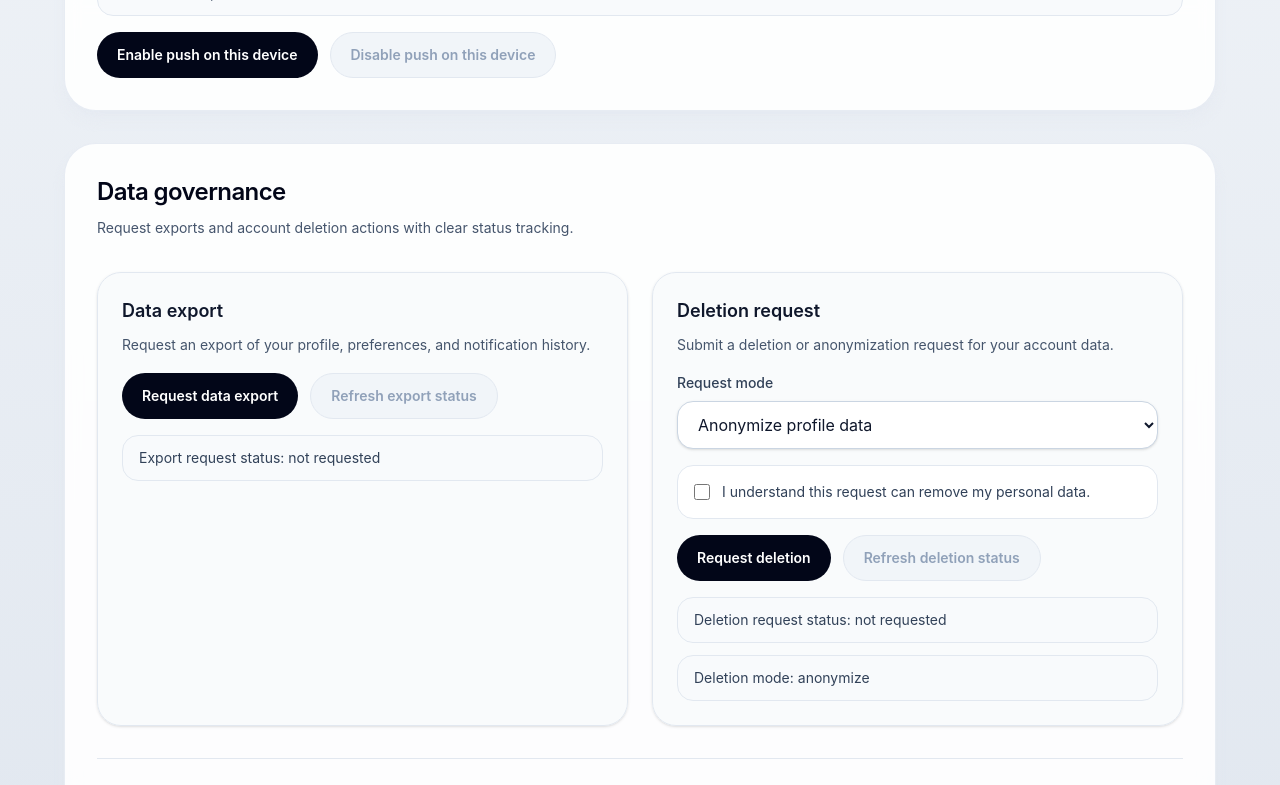
Scenario: SettingsPreferencesForm › submits and refreshes export request status
(page scrolled)
Click the button "Request data export" at (210, 396), box x1=122 y1=373 x2=298 y2=419
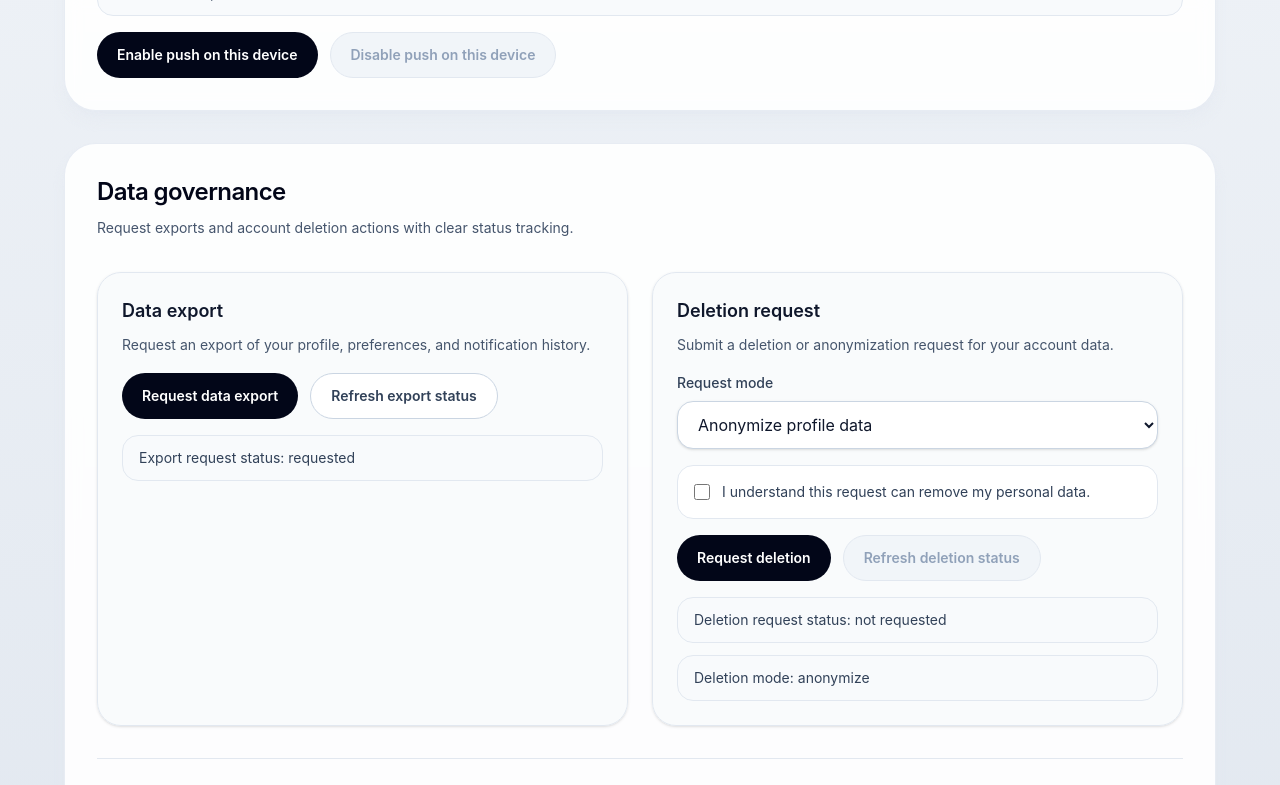
expect the text "Export request status: requested" is shown: met, box x1=122 y1=435 x2=603 y2=481
Click the button "Refresh export status" at (404, 396), box x1=310 y1=373 x2=498 y2=419
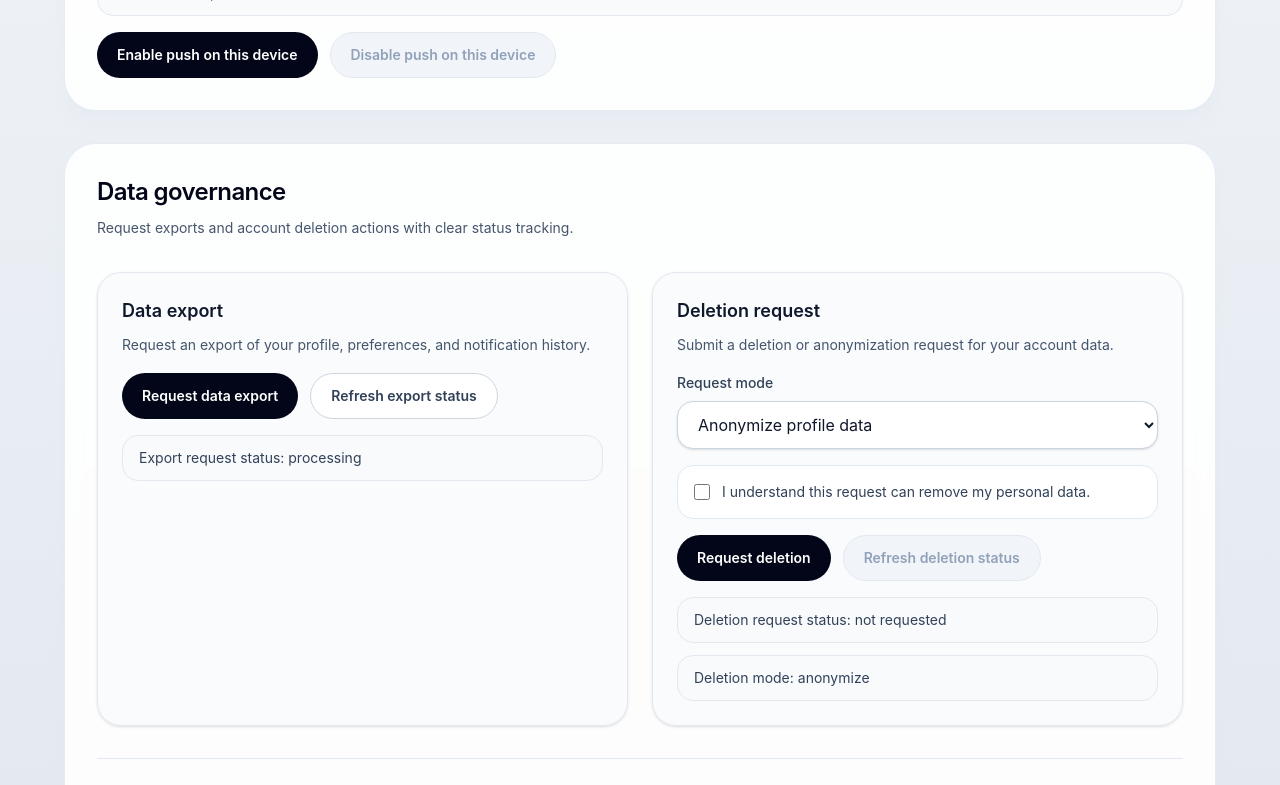
expect the text "Export request status: processing" is shown: met, box x1=122 y1=435 x2=603 y2=481
